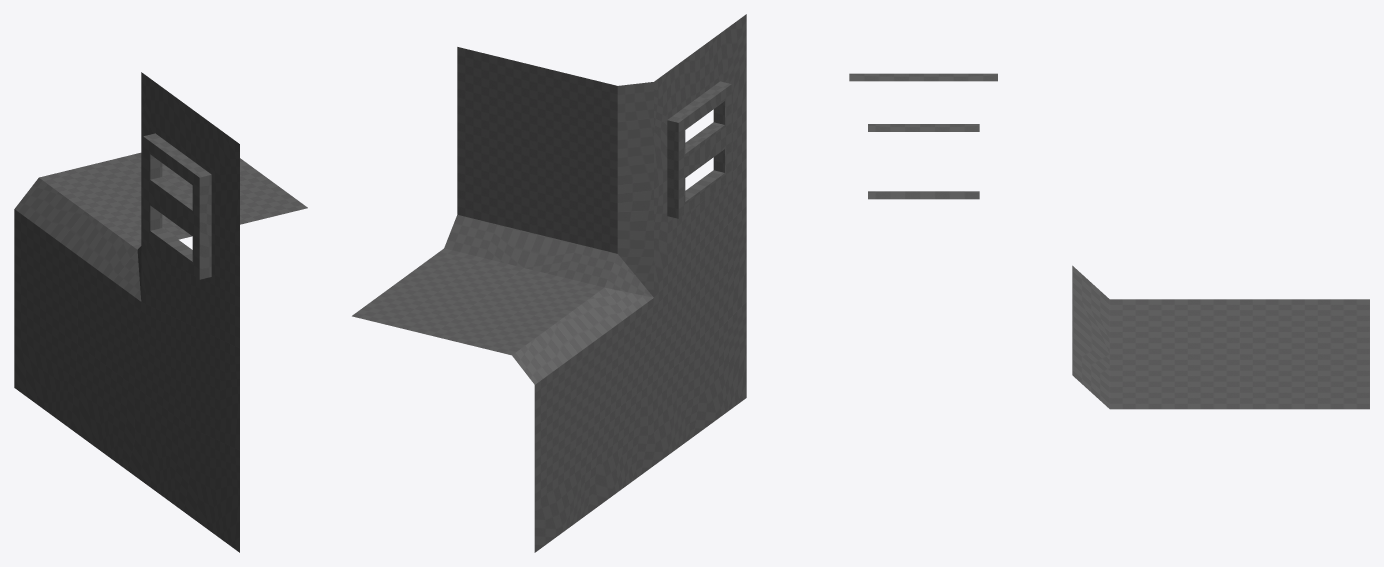
3 views of the same model, side by side, from view 1: azimuth 30°, elevation 25°; view 2: azimuth 150°, elevation 25°; view 3: azimuth 270°, elevation 25° (orthographic). The views are drawn at different scales.
Parts seen in each view (by area): view 1: 1; view 2: 1; view 3: 1.
Part boxes in pixels (x1,y1,x2,y2): 1: (14, 72, 307, 552); 1: (352, 14, 746, 552); 1: (849, 73, 1369, 409).
Bounding box in the file's own units: 2.12 × 4 × 4.
Materials: 2 (2 with a texture image).
